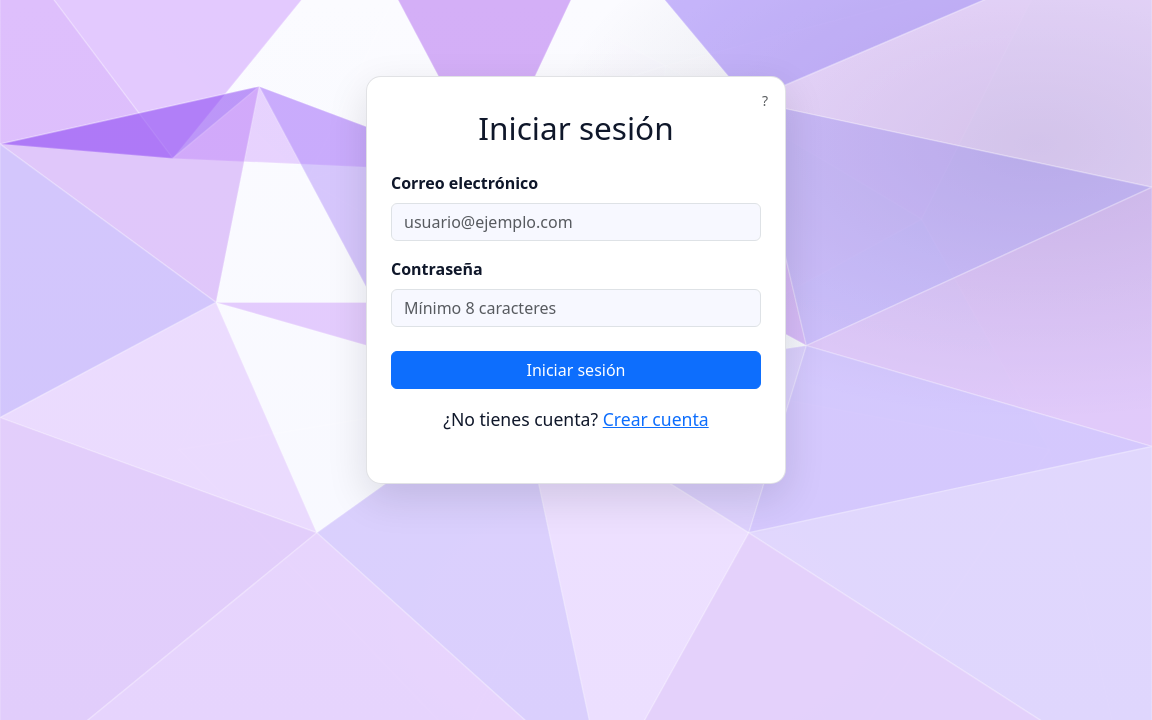
Test: Login Component - Microservicios › deshabilita el botón mientras está cargando
The width and height of the screenshot is (1152, 720).
Type "test@test.com" into the field labelled "Correo electrónico".
click(576, 222); type("test@test.com")  # box left=391, top=203, right=761, bottom=241
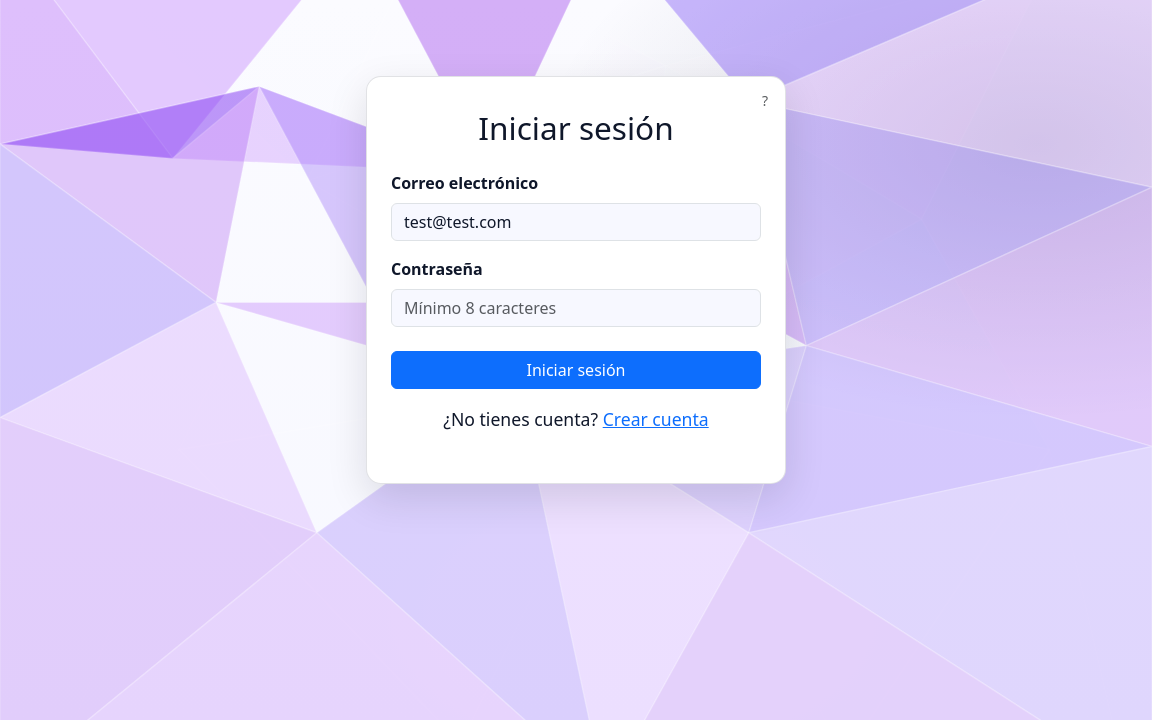
Type "password123" into the password field labelled "Contraseña".
click(576, 308); type("password123")  # box left=391, top=289, right=761, bottom=327
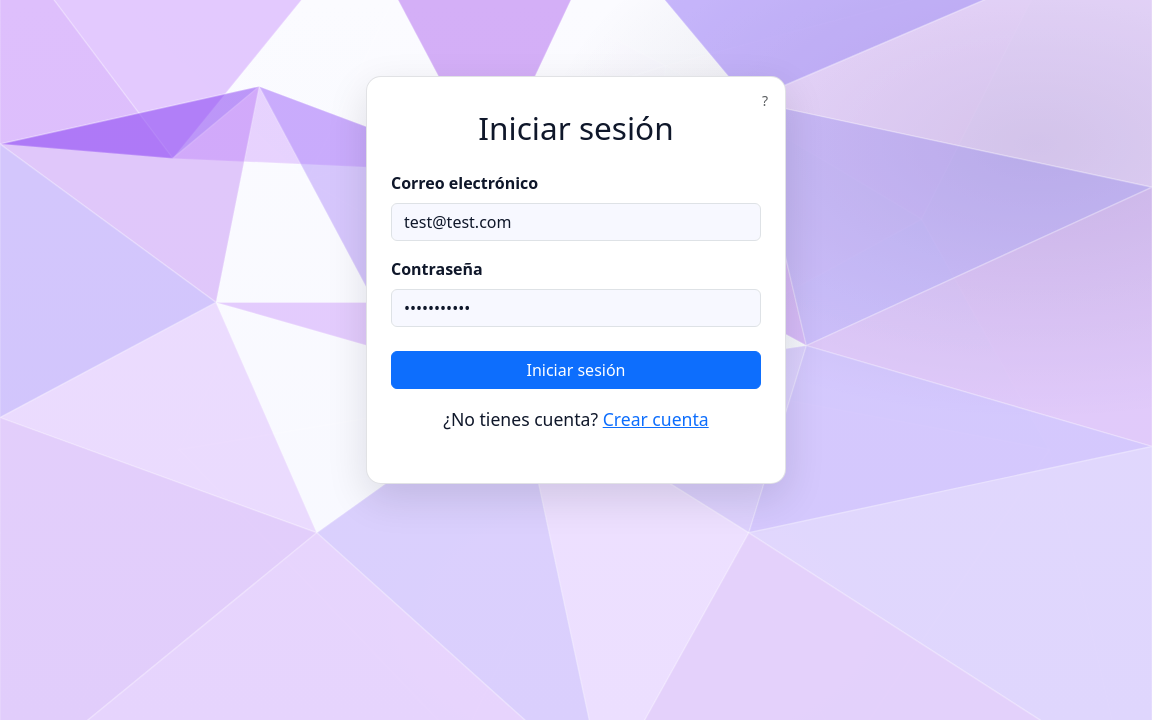
Click the button "Iniciar sesión".
click(576, 370)  # box left=391, top=351, right=761, bottom=389
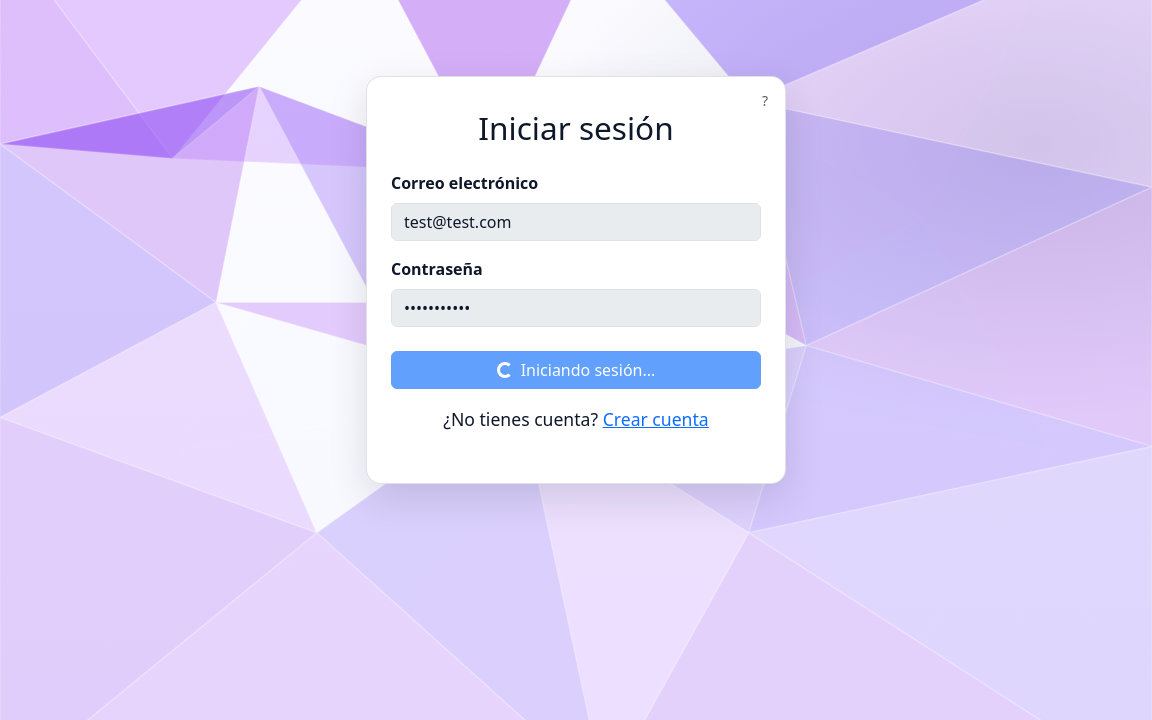
Check: the button "Iniciando sesión..." is disabled, box left=391, top=351, right=761, bottom=389
